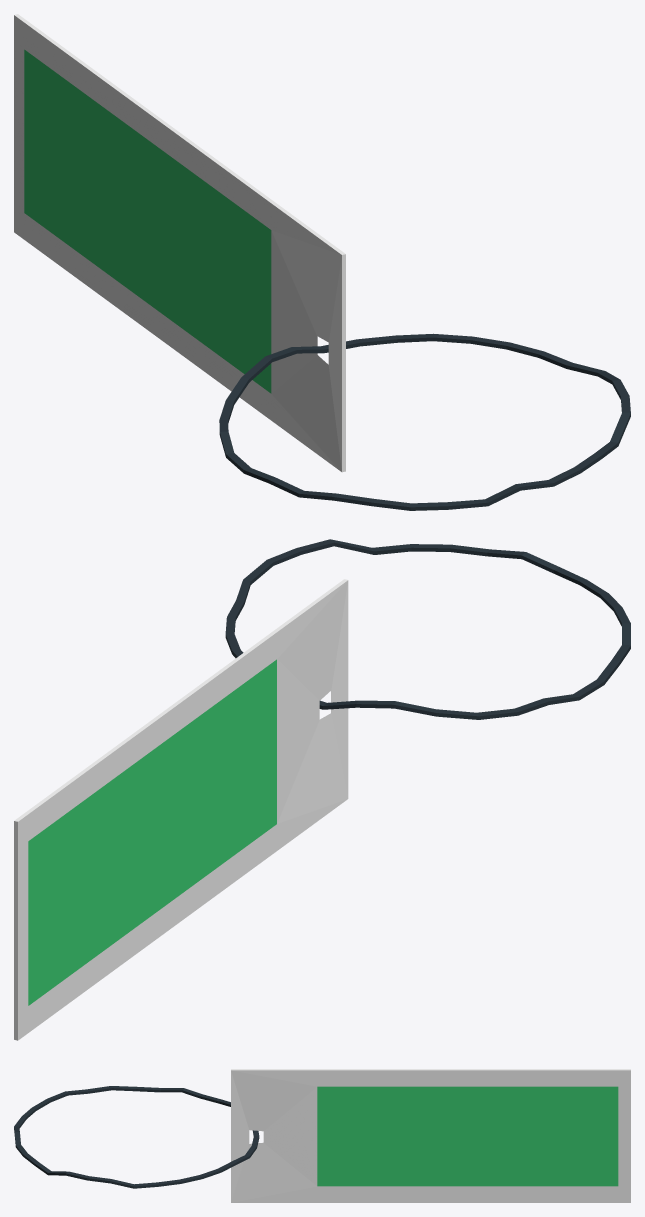
The model's file is GreenRectangleTag.fbx.
The picture shows the model from 3 angles, top to bottom: view 1: azimuth 30°, elevation 25°; view 2: azimuth 150°, elevation 25°; view 3: azimuth 270°, elevation 25°; orthographic projection. The views are drawn at different scales.
Parts seen in each view (by area): view 1: RectangleTag.002; view 2: RectangleTag.002; view 3: RectangleTag.002.
Part boxes in pixels (bbox=[...]): RectangleTag.002: bbox=[14, 14, 630, 510]; RectangleTag.002: bbox=[14, 539, 630, 1040]; RectangleTag.002: bbox=[14, 1069, 630, 1202].
Size of the model in its own units: 55.34 by 31.91 by 135.
